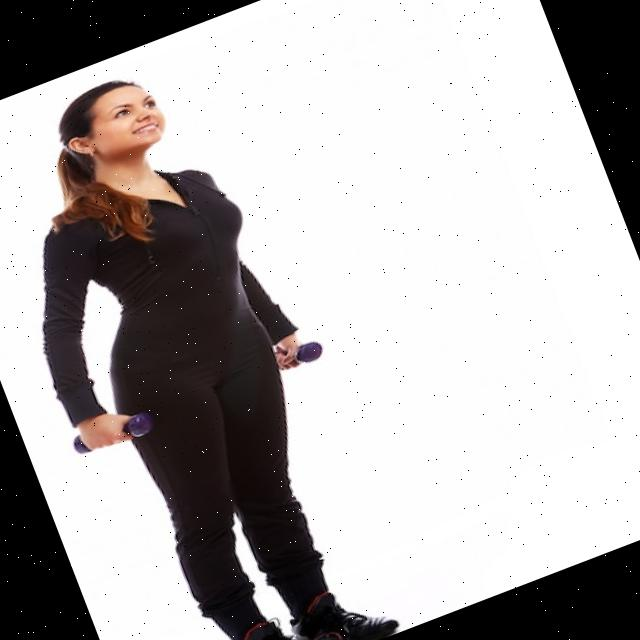Person: (0, 43, 424, 640)
